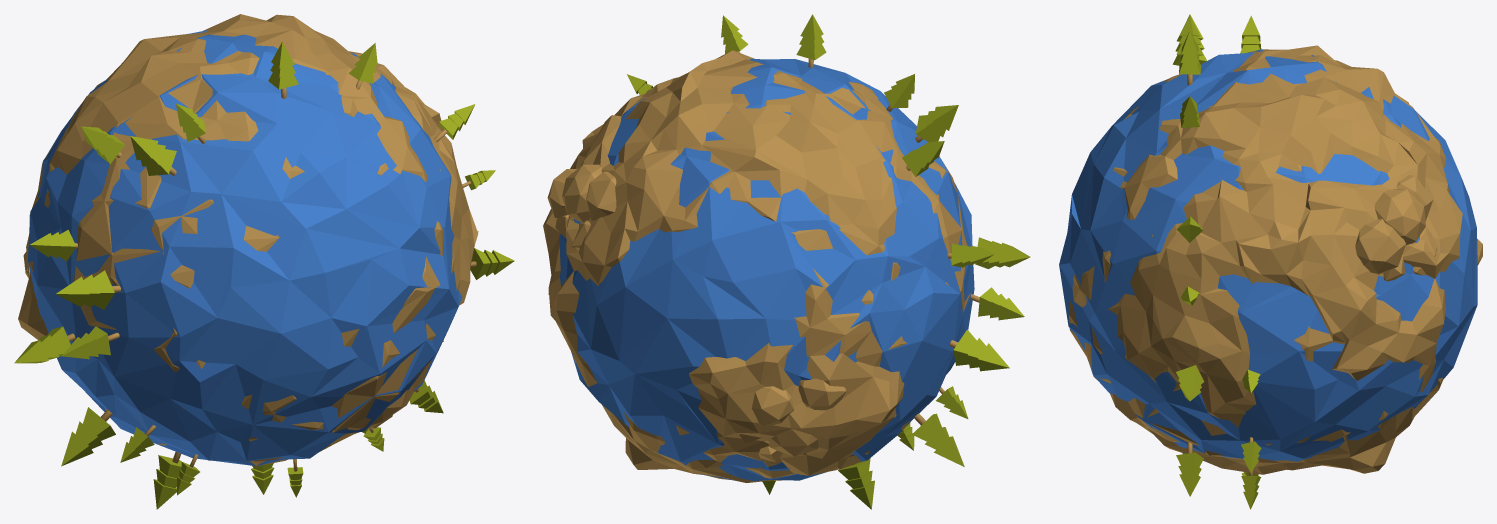
File: PLANET_OPT.fbx
3 views of the same model, side by side, from view 1: azimuth 30°, elevation 25°; view 2: azimuth 150°, elevation 25°; view 3: azimuth 270°, elevation 25° (orthographic). The views are drawn at different scales.
Visible parts, largest first — view 1: Null_1; view 2: Null_1; view 3: Null_1.
Boxes of the visible parts, x1,y1,x2,y2 form: Null_1: [14, 14, 514, 509]; Null_1: [543, 14, 1030, 509]; Null_1: [1059, 14, 1482, 509].
Bounding box in the file's own units: 242 × 237 × 199.
